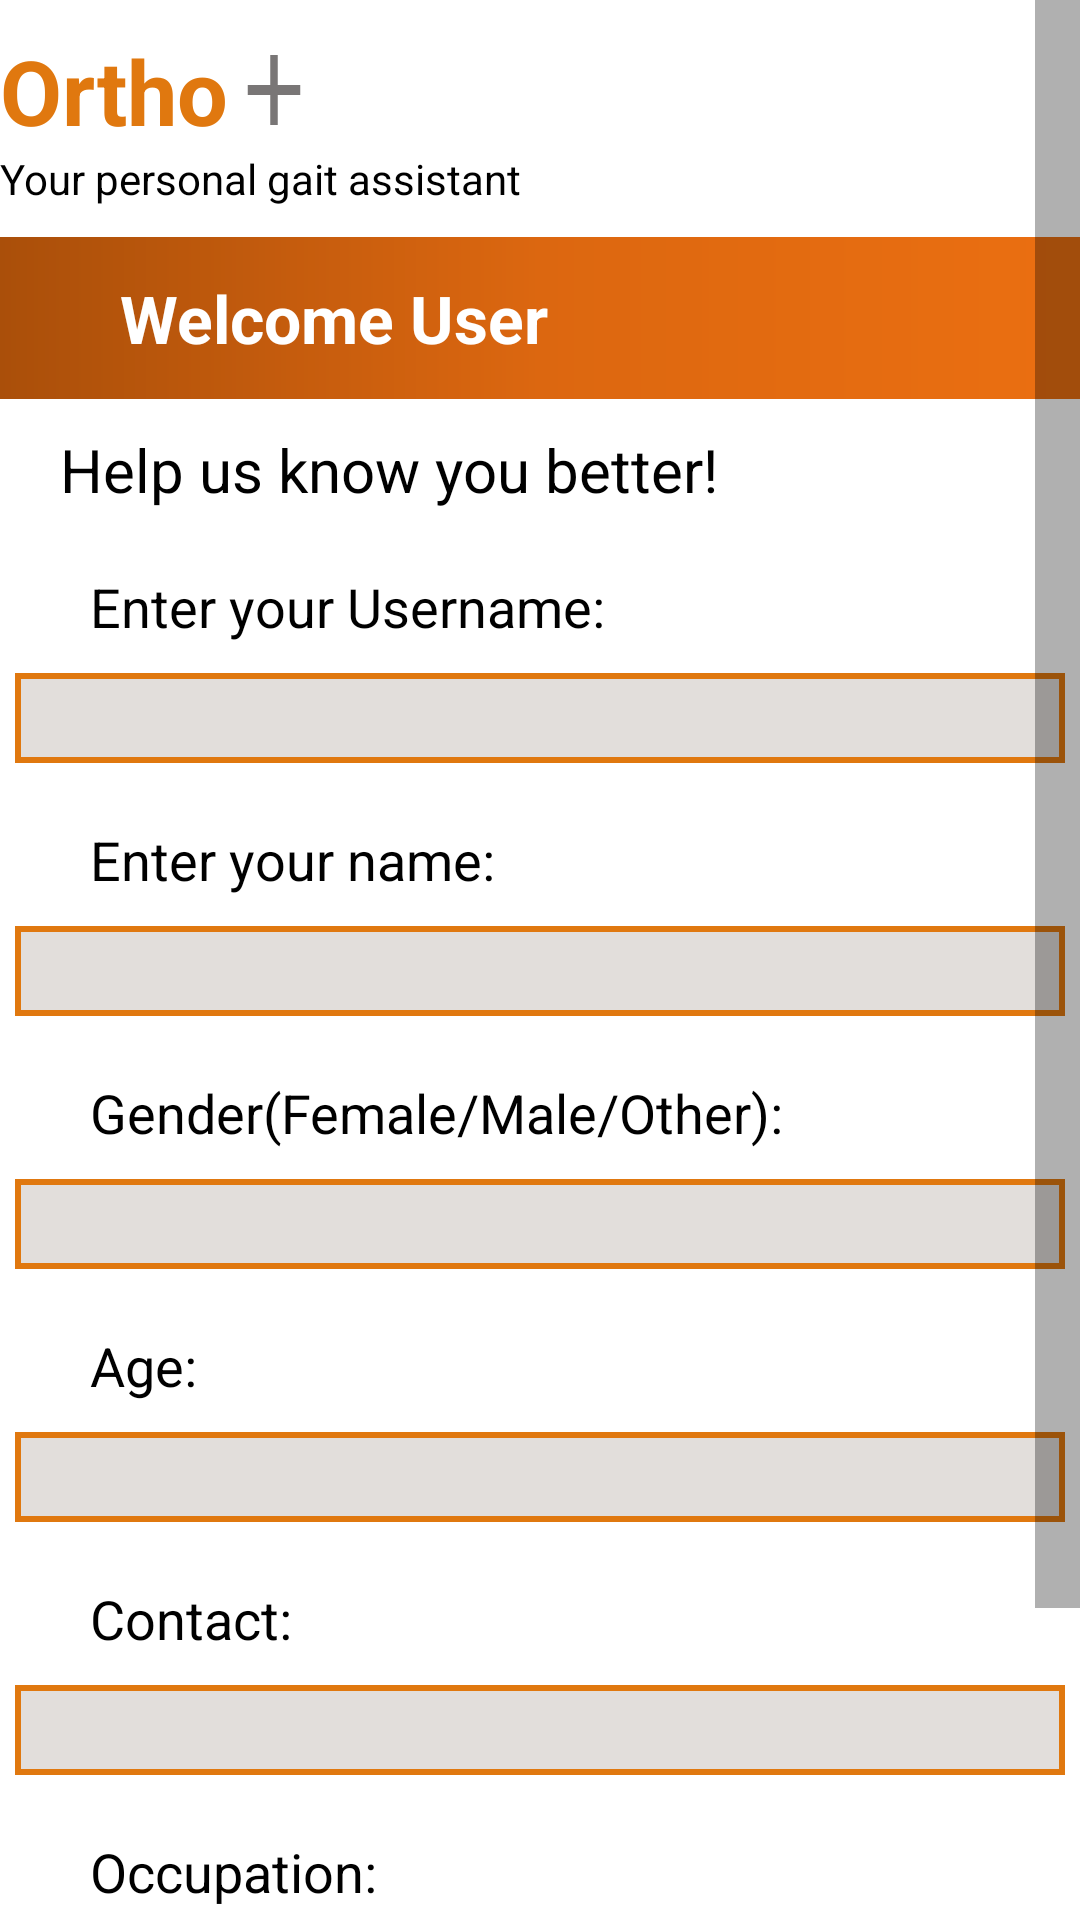

Where to tap for icons on this 1080×1920 app screen, as (x=x, y=y):
add: (x=274, y=90)
